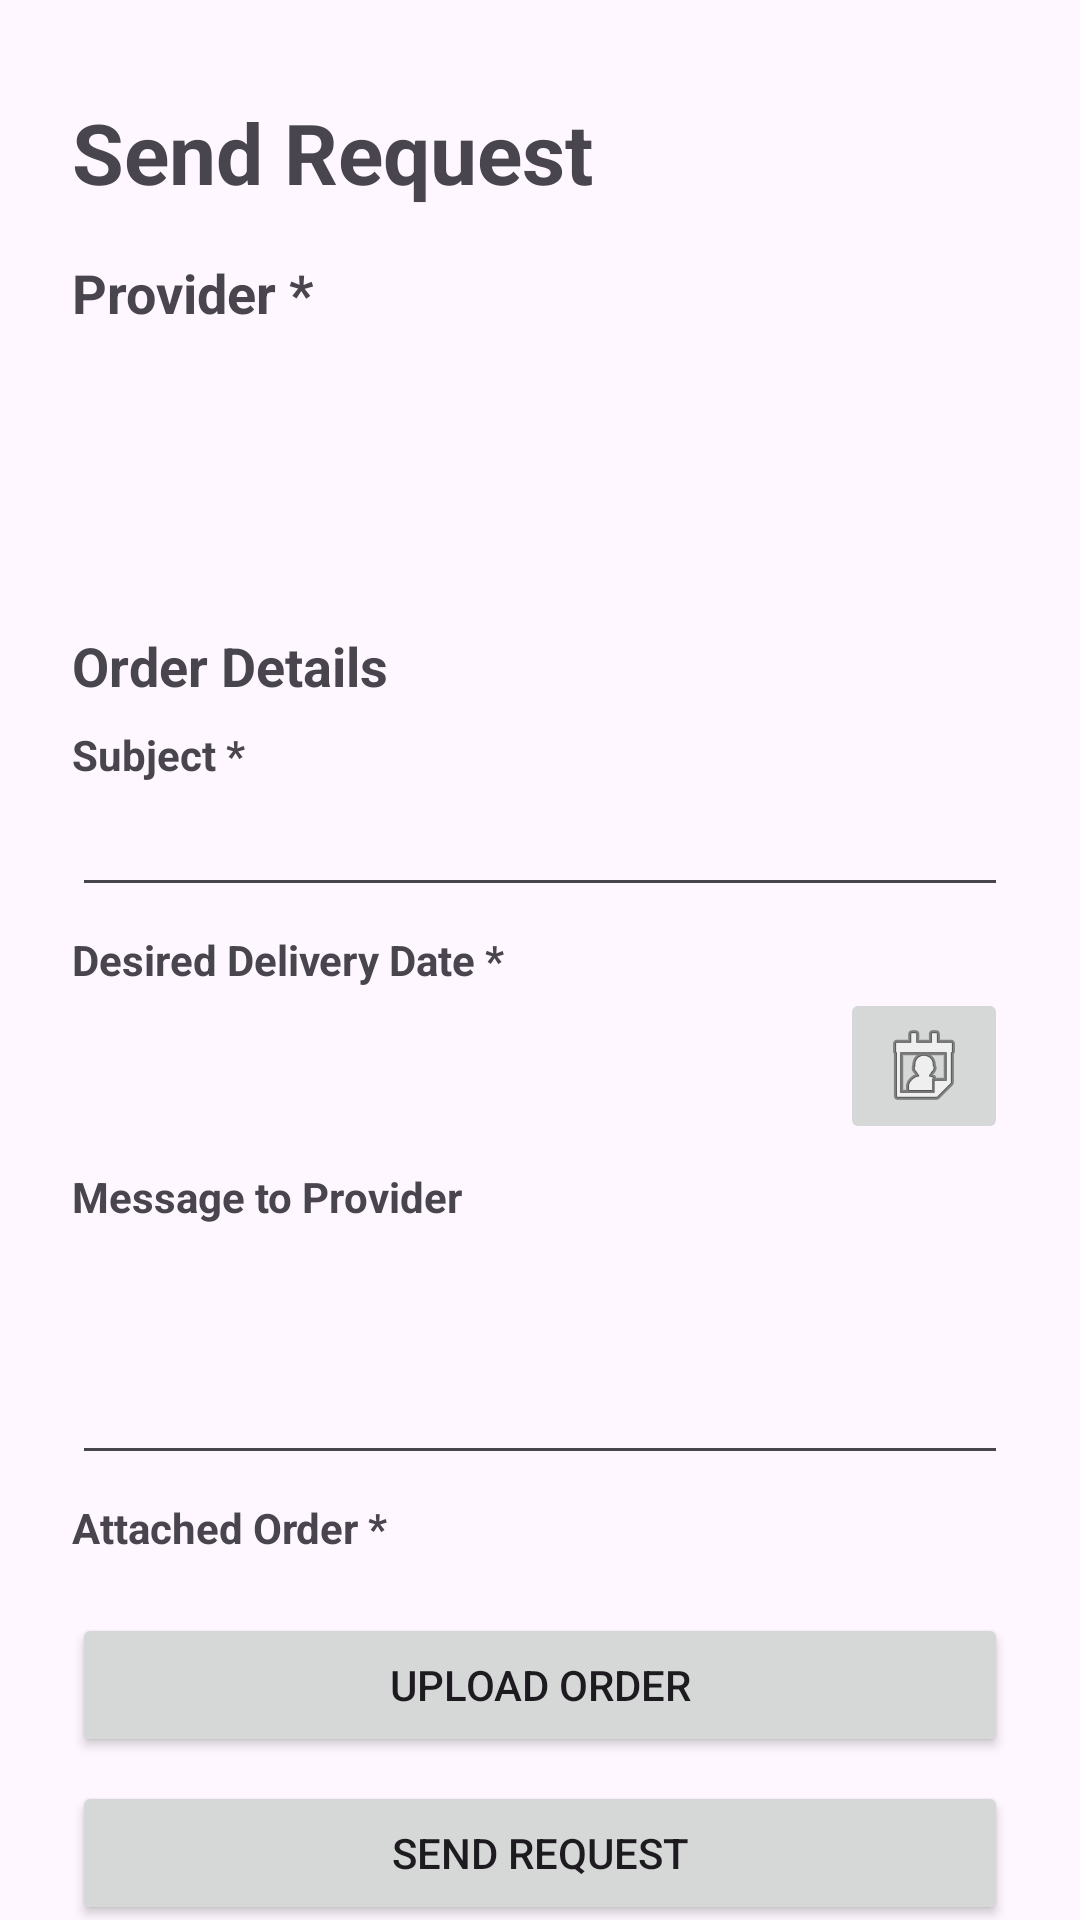

Icons on this 1080px x 1920px Android screen, each with the point to tap as [x,y]:
calendar: [924,1066]
